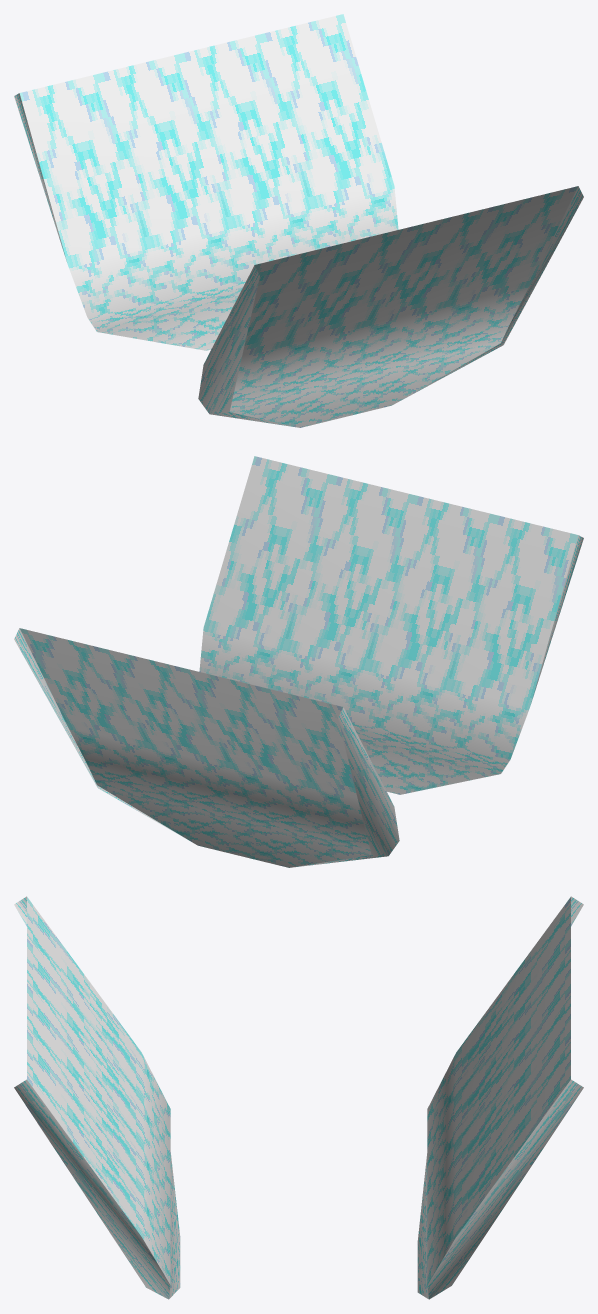
Rendered from avalanche.dae.
3 renders of one model, top to bottom at view 1: azimuth 30°, elevation 25°; view 2: azimuth 150°, elevation 25°; view 3: azimuth 270°, elevation 25°, orthographic. The views are drawn at different scales.
Parts seen in each view (by area): view 1: Nemu_1D25E4EE_0_56, Nemu_1D25E4EE_0_55; view 2: Nemu_1D25E4EE_0_55, Nemu_1D25E4EE_0_56; view 3: Nemu_1D25E4EE_0_55, Nemu_1D25E4EE_0_56.
Boxes of the visible parts, box(x1,y1,x2,y2) form: Nemu_1D25E4EE_0_56: box(14, 14, 398, 350); Nemu_1D25E4EE_0_55: box(198, 186, 583, 427); Nemu_1D25E4EE_0_55: box(199, 456, 583, 794); Nemu_1D25E4EE_0_56: box(14, 628, 399, 867); Nemu_1D25E4EE_0_55: box(14, 896, 180, 1299); Nemu_1D25E4EE_0_56: box(417, 896, 583, 1299).
Bounding box in the file's own units: 3024 × 2113 × 3948.
Materials: 1 (1 with a texture image).
